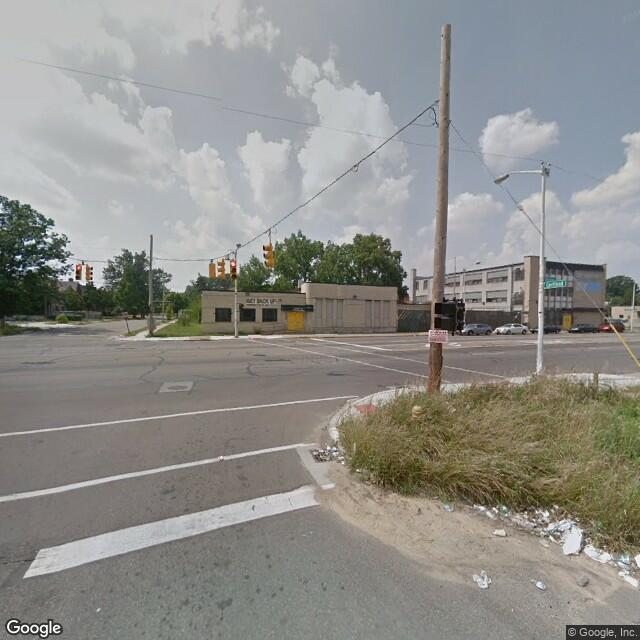litter: (478, 508, 558, 523), (559, 517, 583, 560), (468, 566, 497, 591), (585, 540, 612, 565), (616, 554, 640, 575), (533, 523, 560, 538), (312, 447, 342, 460), (528, 578, 547, 590), (441, 498, 455, 514), (491, 528, 508, 536)
